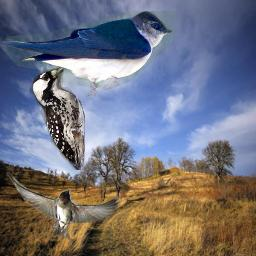Swallow: (1, 11, 174, 97), (6, 172, 122, 241)
Woodpecker: (30, 61, 85, 170)
